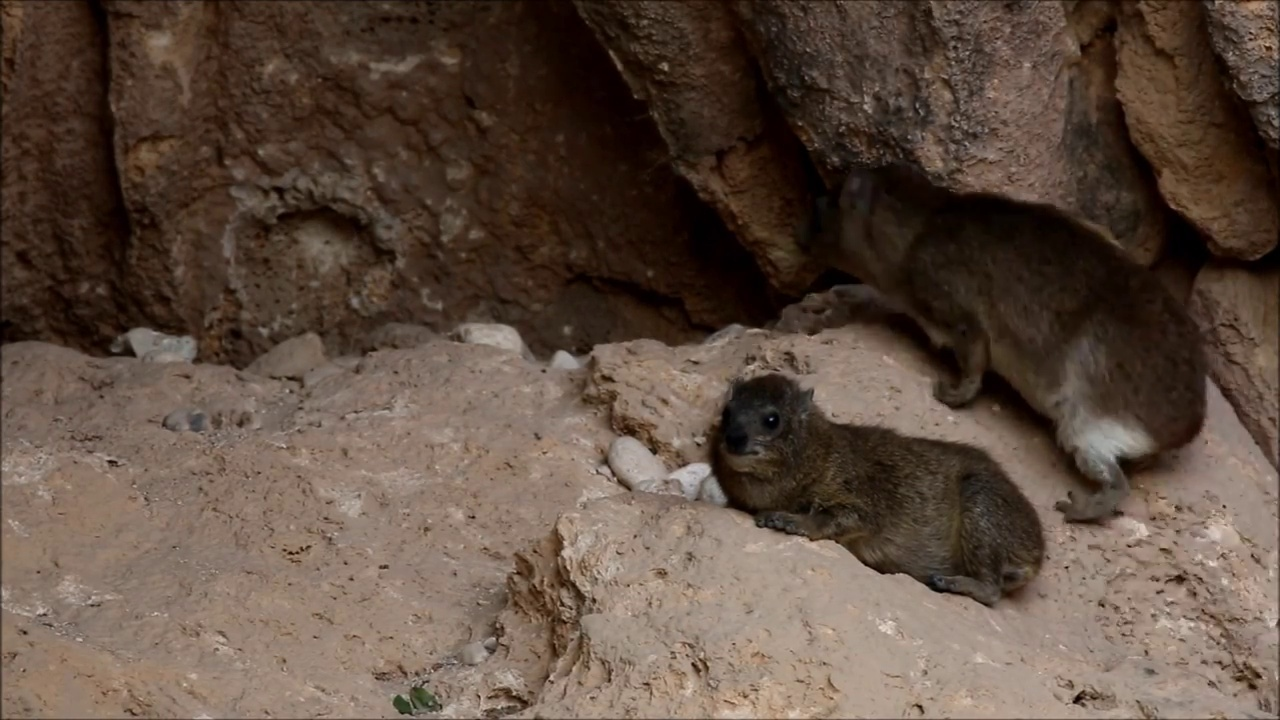Rock Hyrex: (838, 156, 1211, 525), (708, 372, 1047, 606)
